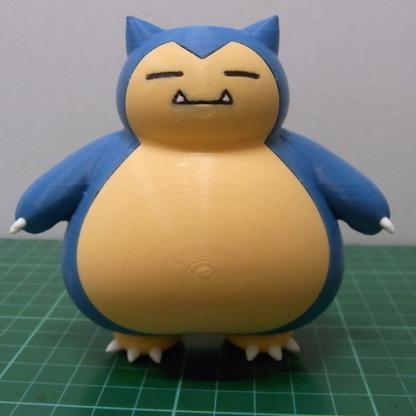Snorlax: (28, 11, 416, 362)
